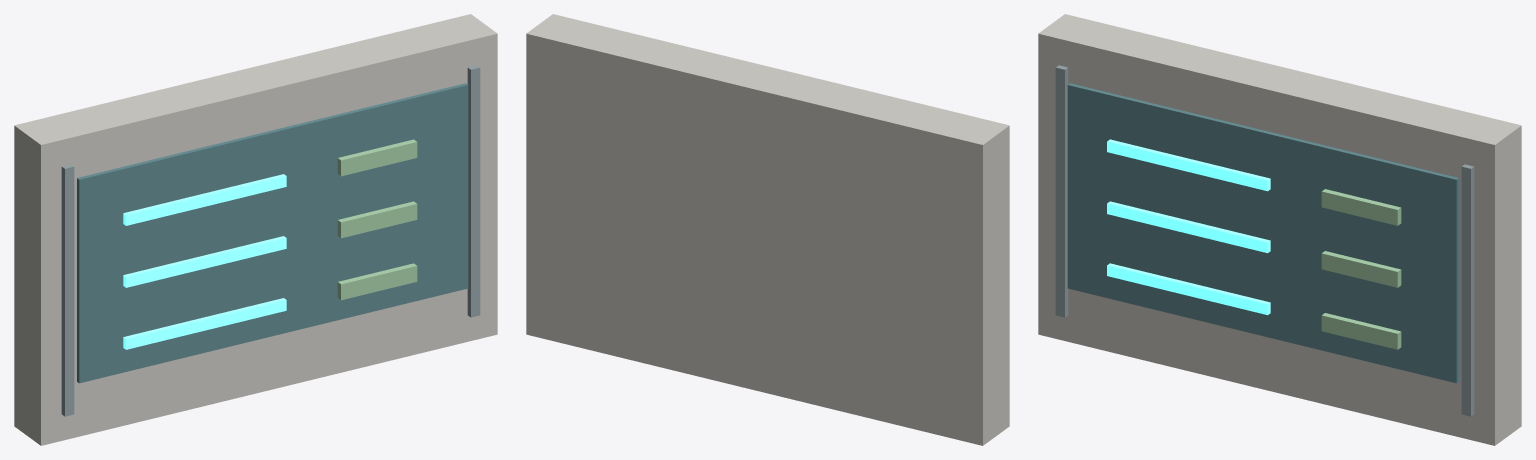
The model's file is s7-e0e1-rm05-rack-status-panel.glb.
3 renders of one model, left to right at view 1: azimuth 30°, elevation 25°; view 2: azimuth 150°, elevation 25°; view 3: azimuth 330°, elevation 25°, orthographic.
Visible parts, largest first — view 1: rack-status-monitor-000, status-glass-001, frame-rail-008, frame-rail-009, slot-status-004, slot-status-006, slot-status-002, ready-icon-003, ready-icon-005, ready-icon-007; view 2: rack-status-monitor-000; view 3: rack-status-monitor-000, status-glass-001, frame-rail-009, frame-rail-008, slot-status-002, slot-status-004, slot-status-006, ready-icon-003, ready-icon-005, ready-icon-007.
Boxes of the visible parts, <box> form: rack-status-monitor-000: <box>14,14,497,445</box>; status-glass-001: <box>77,83,468,383</box>; frame-rail-008: <box>61,164,74,416</box>; frame-rail-009: <box>467,65,480,317</box>; slot-status-004: <box>123,236,286,287</box>; slot-status-006: <box>123,174,286,225</box>; slot-status-002: <box>123,298,286,349</box>; ready-icon-003: <box>337,263,417,300</box>; ready-icon-005: <box>337,201,417,238</box>; ready-icon-007: <box>337,139,417,176</box>; rack-status-monitor-000: <box>526,14,1009,445</box>; rack-status-monitor-000: <box>1038,14,1521,445</box>; status-glass-001: <box>1067,83,1458,383</box>; frame-rail-009: <box>1461,164,1474,416</box>; frame-rail-008: <box>1055,65,1068,317</box>; slot-status-002: <box>1107,263,1270,315</box>; slot-status-004: <box>1107,201,1270,253</box>; slot-status-006: <box>1107,139,1270,191</box>; ready-icon-003: <box>1321,313,1401,349</box>; ready-icon-005: <box>1321,251,1401,287</box>; ready-icon-007: <box>1321,189,1401,225</box>.
Bounding box in the file's own units: 0.54 × 0.34 × 0.072.
